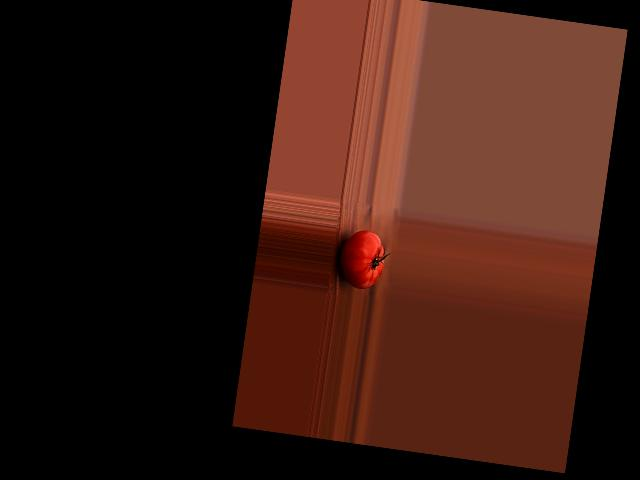tomato: (335, 226, 388, 291)
